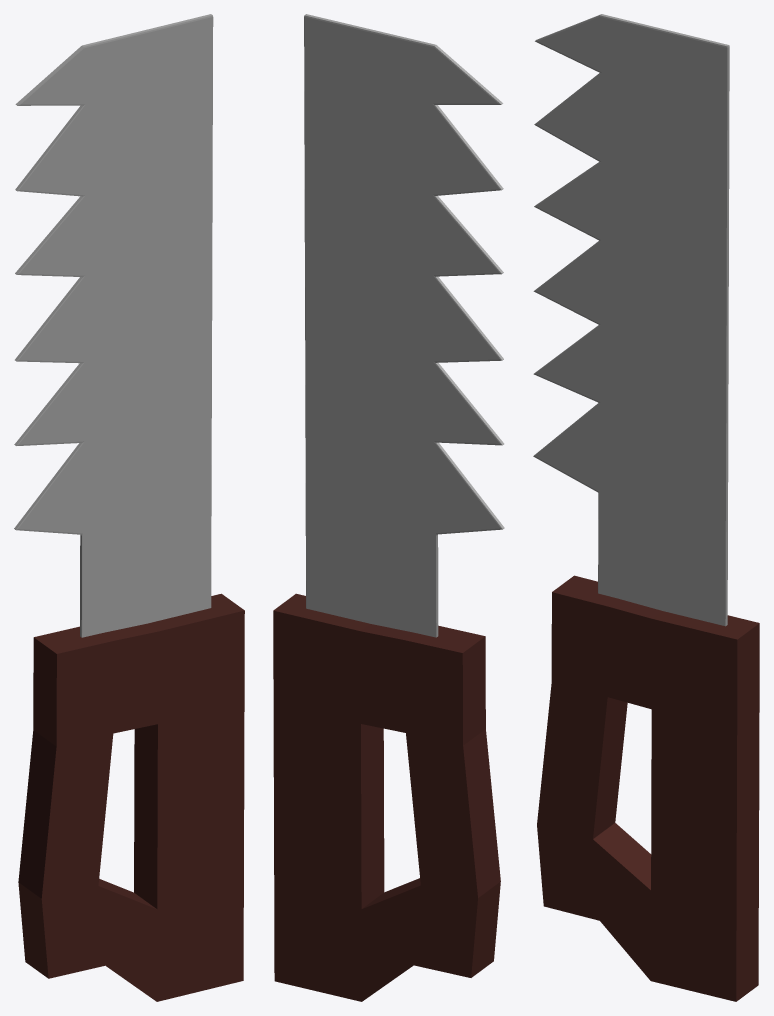
Rendered from SawSmall.fbx.
3 renders of one model, left to right at view 1: azimuth 30°, elevation 25°; view 2: azimuth 150°, elevation 25°; view 3: azimuth 330°, elevation 25°, orthographic. The views are drawn at different scales.
Parts seen in each view (by area): view 1: SawSmall; view 2: SawSmall; view 3: SawSmall.
Part boxes in pixels (x1,y1,x2,y2): SawSmall: (14, 14, 244, 1001); SawSmall: (273, 14, 504, 1001); SawSmall: (533, 14, 759, 1001).
Bounding box in the file's own units: 19.98 × 3.77 × 84.06.
